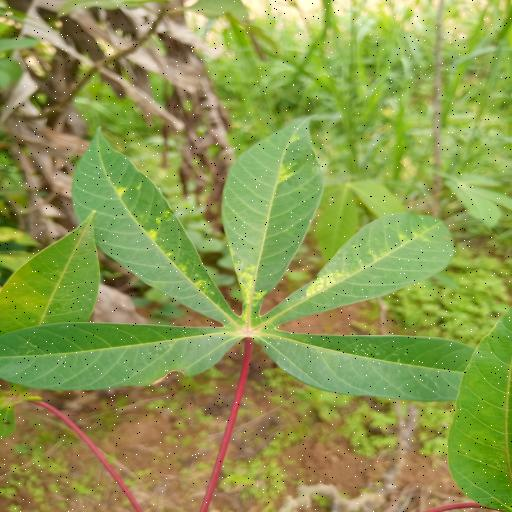Cassava_Mosaic: (0, 117, 512, 405)
